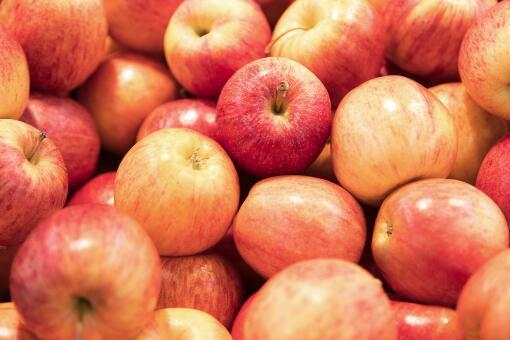apple: (10, 205, 162, 340), (367, 180, 507, 305), (330, 76, 458, 203), (114, 131, 242, 254), (233, 174, 364, 279), (216, 57, 331, 174), (232, 261, 395, 340), (160, 1, 270, 101), (274, 1, 390, 90), (2, 1, 107, 97), (1, 110, 68, 244), (377, 2, 479, 82), (18, 96, 99, 194), (457, 5, 509, 121), (455, 249, 509, 339)
